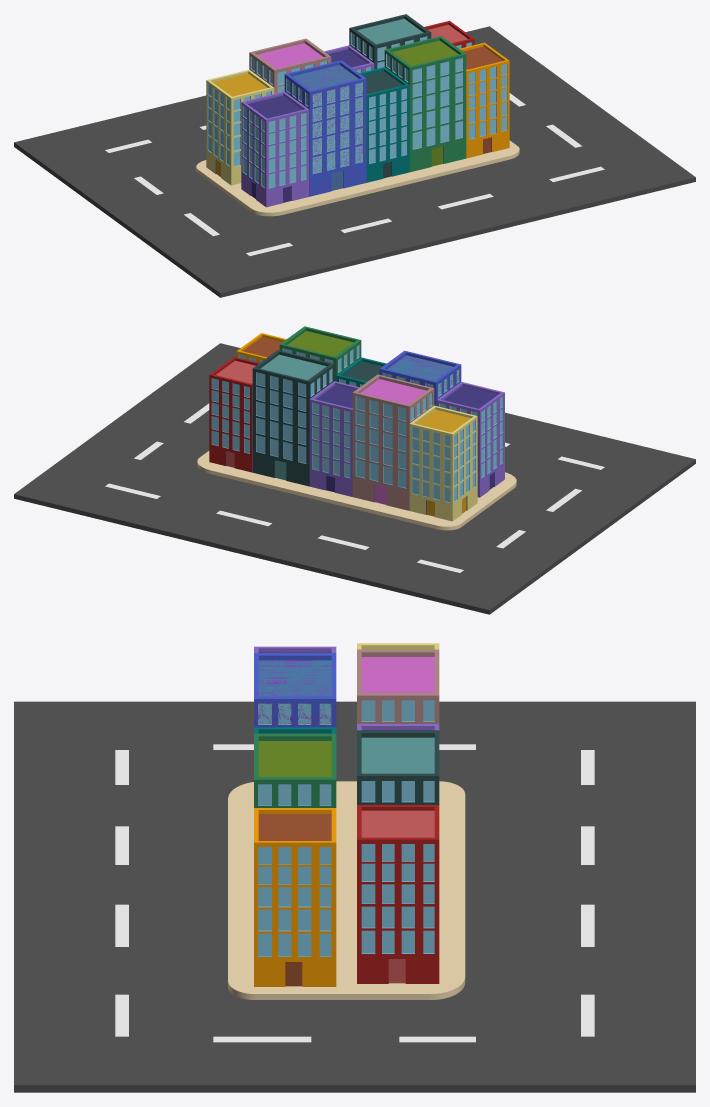
Rendered from LowPolyCity.dae.
The picture shows the model from 3 angles, top to bottom: view 1: azimuth 30°, elevation 25°; view 2: azimuth 150°, elevation 25°; view 3: azimuth 270°, elevation 25°; orthographic projection. The views are drawn at different scales.
Visible parts, largest first — view 1: SketchUp, group_5 (×2), group_1 (×2), group_12 (×2), group_2, group_7 (×2), group_10 (×2), group_11 (×2), group_6 (×2), group_4 (×2), group_3; view 2: SketchUp, group_4 (×2), group_6 (×2), group_7 (×2), group_3, group_8 (×2), group_9 (×2), group_12 (×2), group_5 (×2), group_1 (×2), group_2, group_10 (+1 smaller); view 3: SketchUp (×2), group_8 (×2), group_3, group_10 (×2), group_2, group_6 (×2), group_4 (×2), group_5 (×2), group_1 (×2).
Part boxes in pixels (bbox=[...]): SketchUp: bbox=[14, 26, 695, 297]; group_5 (×2): bbox=[284, 60, 366, 196]; group_1 (×2): bbox=[384, 36, 466, 172]; group_12 (×2): bbox=[241, 91, 309, 207]; group_2: bbox=[226, 140, 519, 216]; group_7 (×2): bbox=[206, 69, 274, 185]; group_10 (×2): bbox=[459, 42, 509, 158]; group_11 (×2): bbox=[359, 67, 409, 182]; group_6 (×2): bbox=[349, 14, 431, 69]; group_4 (×2): bbox=[249, 38, 331, 93]; group_3: bbox=[196, 160, 241, 193]; SketchUp: bbox=[14, 343, 695, 614]; group_4 (×2): bbox=[352, 374, 434, 510]; group_6 (×2): bbox=[252, 350, 334, 486]; group_7 (×2): bbox=[409, 405, 477, 521]; group_3: bbox=[197, 451, 488, 530]; group_8 (×2): bbox=[209, 356, 259, 472]; group_9 (×2): bbox=[309, 381, 359, 496]; group_12 (×2): bbox=[436, 382, 504, 497]; group_5 (×2): bbox=[379, 350, 461, 405]; group_1 (×2): bbox=[279, 326, 361, 381]; group_2: bbox=[477, 472, 516, 506]; group_10: bbox=[243, 337, 282, 357]; SketchUp (×2): bbox=[14, 701, 695, 1092]; group_8 (×2): bbox=[357, 805, 439, 983]; group_3: bbox=[346, 781, 465, 999]; group_10 (×2): bbox=[254, 808, 336, 986]; group_2: bbox=[228, 781, 346, 999]; group_6 (×2): bbox=[357, 730, 439, 804]; group_4 (×2): bbox=[357, 649, 439, 723]; group_5 (×2): bbox=[254, 653, 336, 727]; group_1 (×2): bbox=[254, 733, 336, 807].
Size of the model in its own units: 2942 by 2211 by 667.
